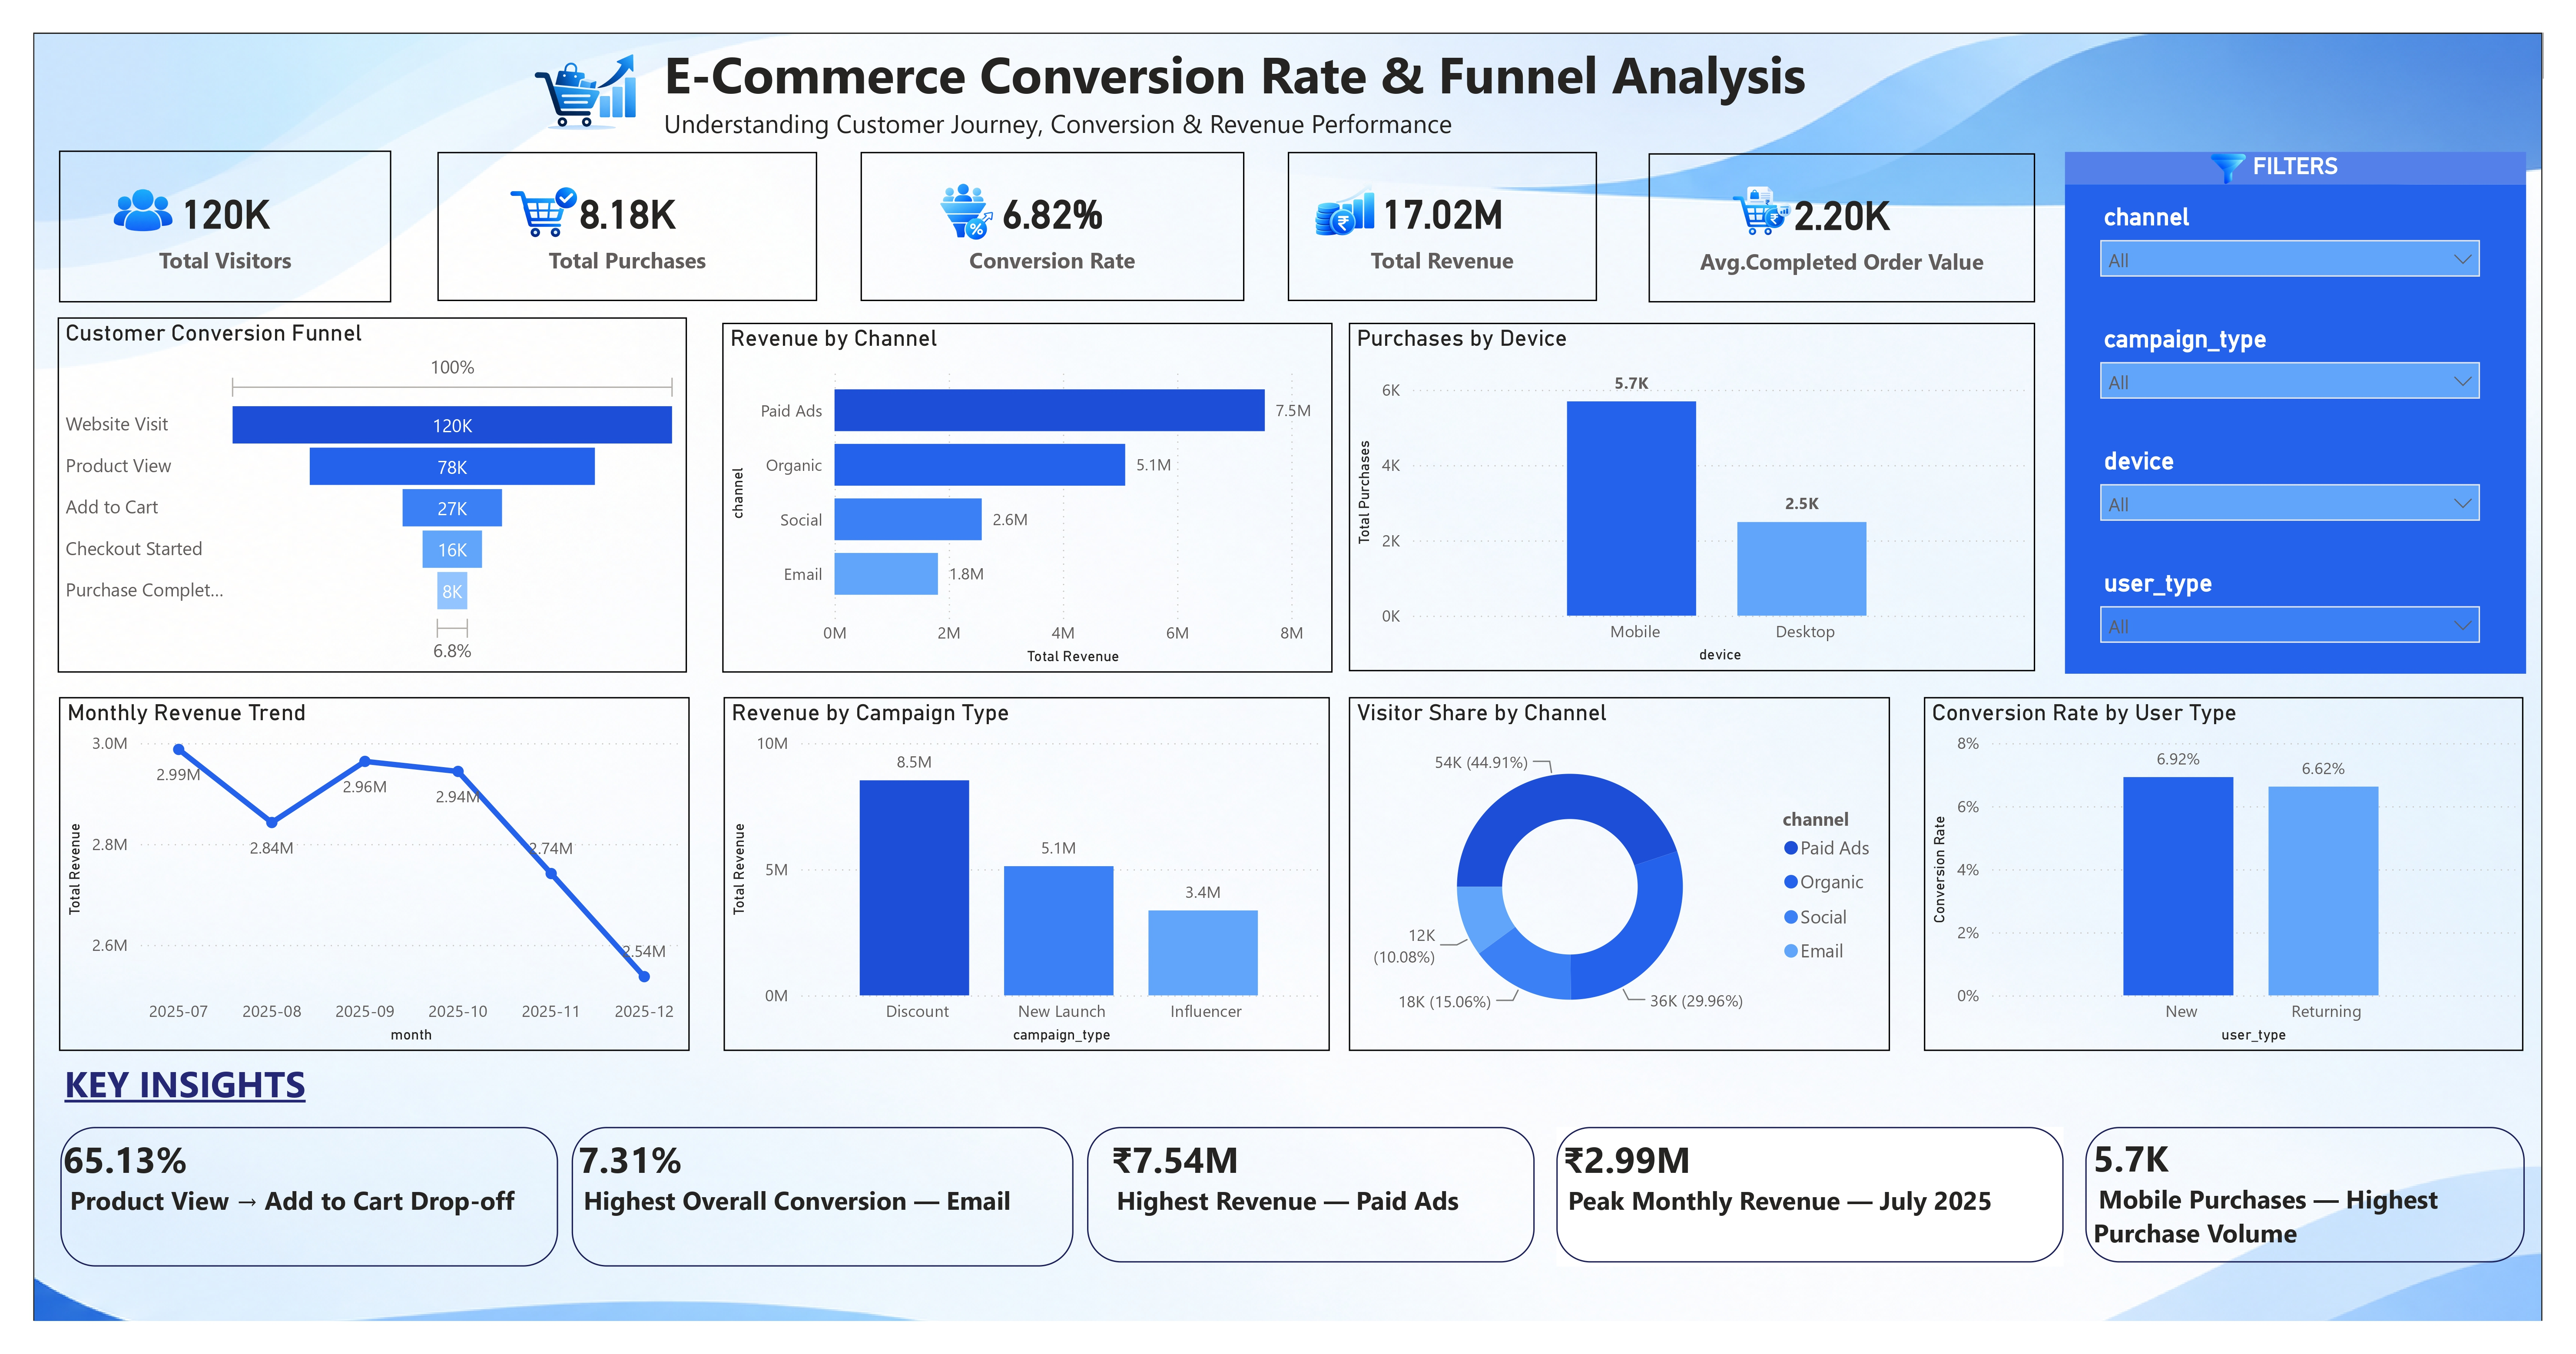

The dashboard page shown, as its layout file describes it:
{"tool":"powerbi","page":{"name":"Page 1","canvas":[1850,950],"ordinal":0},"visuals":[{"type":"image","box":[0,0,1850,1100],"z":0},{"type":"textbox","box":[460,0,933.3,86.7],"z":1000},{"type":"image","box":[355,0,105,86.7],"z":2000},{"type":"card","fields":{"Values":["ecom_funnel_data.Total_Visitors"]},"box":[18.6,87.1,245.7,111.4],"z":3000},{"type":"card","fields":{"Values":["ecom_funnel_data.Total Purchases"]},"box":[297.5,87.5,280,110],"z":4000},{"type":"card","fields":{"Values":["ecom_funnel_data.Conversion Rate"]},"box":[610,87.5,282.5,110],"z":5000},{"type":"card","fields":{"Values":["ecom_funnel_data.Total Revenue"]},"box":[925,87.5,227.5,110],"z":6000},{"type":"card","fields":{"Values":["ecom_funnel_data.Average Order Value"]},"box":[1191,88.5,284.5,110],"z":7000},{"type":"funnel","title":"Customer Conversion Funnel","fields":{"Category":["Funnel Stages.Stage"],"Y":["Funnel Stages.Funnel Users"]},"box":[18,210,464,262],"z":8000},{"type":"clusteredBarChart","title":"Revenue by Channel","fields":{"Category":["ecom_funnel_data.channel"],"Y":["ecom_funnel_data.Total Revenue"]},"box":[508,214,450,258],"z":9000},{"type":"lineChart","title":"Monthly Revenue Trend","fields":{"Category":["ecom_funnel_data.month"],"Y":["ecom_funnel_data.Total Revenue"]},"box":[18.6,490,465.7,261.4],"z":10000},{"type":"clusteredColumnChart","title":"Revenue by Campaign Type","fields":{"Category":["ecom_funnel_data.campaign_type"],"Y":["ecom_funnel_data.Total Revenue"]},"box":[508.6,490,447.1,261.4],"z":11000},{"type":"clusteredColumnChart","title":"Purchases by Device","fields":{"Category":["ecom_funnel_data.device"],"Y":["ecom_funnel_data.Total Purchases"]},"box":[970,214,506,257],"z":12000},{"type":"donutChart","title":"Visitor Share by Channel","fields":{"Category":["ecom_funnel_data.channel"],"Y":["ecom_funnel_data.Total Visitors"]},"box":[970,490,398.6,261.4],"z":13000},{"type":"clusteredColumnChart","title":"Conversion Rate by User Type","fields":{"Category":["ecom_funnel_data.user_type"],"Y":["ecom_funnel_data.Conversion Rate"]},"box":[1394.3,490,441.4,261.4],"z":14000},{"type":"shape","title":"FILTERS","box":[1497.5,87.5,340,385],"z":15000},{"type":"slicer","fields":{"Values":["ecom_funnel_data.channel"]},"box":[1514.3,120,300,90],"z":16000},{"type":"slicer","fields":{"Values":["ecom_funnel_data.campaign_type"]},"box":[1514.3,210,300,90],"z":17000},{"type":"slicer","fields":{"Values":["ecom_funnel_data.device"]},"box":[1514.3,300,300,90],"z":18000},{"type":"slicer","fields":{"Values":["ecom_funnel_data.user_type"]},"box":[1514.3,390,300,82.9],"z":19000},{"type":"image","box":[35.5,94.5,91.8,70.9],"z":20000},{"type":"image","box":[330.8,94.2,92.5,75],"z":21000},{"type":"image","box":[640.8,91.7,91.7,80],"z":22000},{"type":"image","box":[927.5,90,77.5,80],"z":23000},{"type":"image","box":[1237.5,101.2,72.5,60],"z":24000},{"type":"image","box":[1591.5,84,53.5,31.5],"z":25000},{"type":"textbox","box":[17.5,751.2,202.5,53.8],"z":26000},{"type":"textbox","box":[16.7,806.7,370,103.3],"z":27000},{"type":"shape","box":[20,806.7,366.7,103.3],"z":28000},{"type":"textbox","box":[396.7,806.7,353.3,103.3],"z":29000},{"type":"shape","box":[396.7,806.7,370,103.3],"z":30000},{"type":"textbox","box":[790,806.7,316.7,103.3],"z":31000},{"type":"shape","box":[776.7,806.7,330,100],"z":32000},{"type":"textbox","box":[1123.3,806.7,373.3,103.3],"z":33000},{"type":"shape","box":[1123.3,806.7,373.3,100],"z":34000},{"type":"textbox","box":[1514,806,322,102],"z":35000},{"type":"shape","box":[1513.3,806.7,323.3,100],"z":36000}]}

Visuals, with their boxes in screenshot pixels (x1, y1, x2, y2):
image: box=[0, 20, 2540, 1354]
textbox: box=[632, 20, 1913, 139]
image: box=[487, 20, 632, 139]
card - ecom_funnel_data.Total_Visitors: box=[26, 140, 363, 293]
card - ecom_funnel_data.Total Purchases: box=[408, 140, 793, 291]
card - ecom_funnel_data.Conversion Rate: box=[838, 140, 1226, 291]
card - ecom_funnel_data.Total Revenue: box=[1270, 140, 1583, 291]
card - ecom_funnel_data.Average Order Value: box=[1635, 142, 2026, 293]
"Customer Conversion Funnel" funnel: box=[25, 308, 662, 668]
"Revenue by Channel" clusteredBarChart: box=[698, 314, 1316, 668]
"Monthly Revenue Trend" lineChart: box=[26, 693, 665, 1052]
"Revenue by Campaign Type" clusteredColumnChart: box=[698, 693, 1313, 1052]
"Purchases by Device" clusteredColumnChart: box=[1332, 314, 2027, 667]
"Visitor Share by Channel" donutChart: box=[1332, 693, 1880, 1052]
"Conversion Rate by User Type" clusteredColumnChart: box=[1915, 693, 2521, 1052]
"FILTERS" shape: box=[2056, 140, 2523, 669]
slicer - ecom_funnel_data.channel: box=[2079, 185, 2491, 308]
slicer - ecom_funnel_data.campaign_type: box=[2079, 308, 2491, 432]
slicer - ecom_funnel_data.device: box=[2079, 432, 2491, 556]
slicer - ecom_funnel_data.user_type: box=[2079, 556, 2491, 669]
image: box=[49, 150, 175, 247]
image: box=[454, 149, 581, 252]
image: box=[880, 146, 1006, 256]
image: box=[1273, 144, 1380, 254]
image: box=[1699, 159, 1799, 242]
image: box=[2185, 136, 2259, 179]
textbox: box=[24, 1052, 302, 1126]
textbox: box=[23, 1128, 531, 1269]
shape: box=[27, 1128, 531, 1269]
textbox: box=[545, 1128, 1030, 1269]
shape: box=[545, 1128, 1053, 1269]
textbox: box=[1085, 1128, 1520, 1269]
shape: box=[1067, 1128, 1520, 1265]
textbox: box=[1542, 1128, 2055, 1269]
shape: box=[1542, 1128, 2055, 1265]
textbox: box=[2079, 1127, 2521, 1267]
shape: box=[2078, 1128, 2522, 1265]
